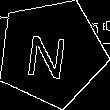N_N: (28, 26, 75, 80)
